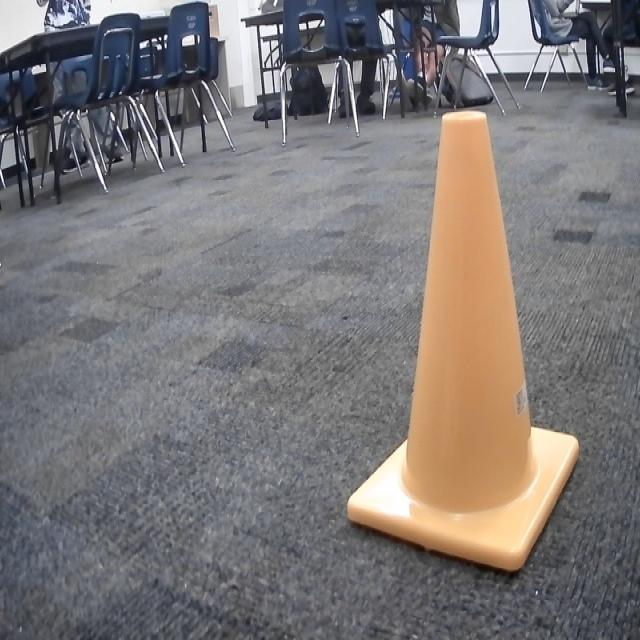cone: (342, 110, 583, 577)
